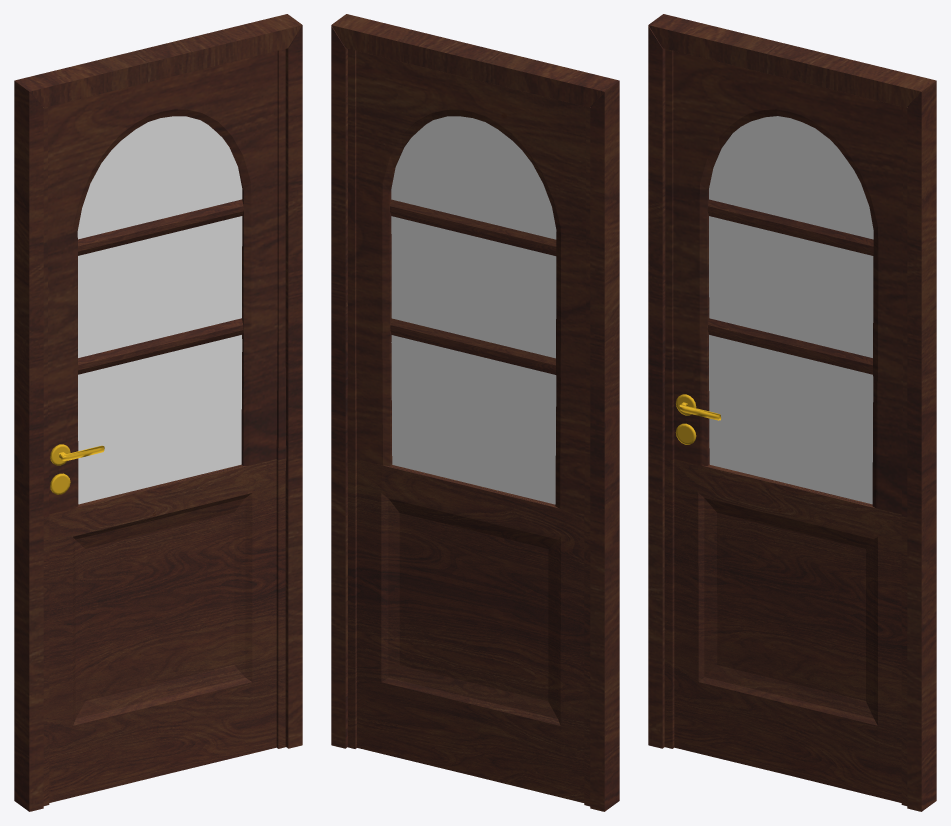
Rendered from PUERTA52_TIME_SQUARE.glb.
The picture shows the model from 3 angles, left to right: view 1: azimuth 30°, elevation 25°; view 2: azimuth 150°, elevation 25°; view 3: azimuth 330°, elevation 25°; orthographic projection.
Parts seen in each view (by area): view 1: Puerta52_TIME SQUARE, CRISTAL_GRANDE, Puerta52_Marco, Puerta52_Cerradura; view 2: Puerta52_TIME SQUARE, CRISTAL_GRANDE, Puerta52_Marco; view 3: Puerta52_TIME SQUARE, CRISTAL_GRANDE, Puerta52_Marco, Puerta52_Cerradura.
Boxes of the visible parts, x1,y1,x2,y2 form: Puerta52_TIME SQUARE: [43, 49, 286, 805]; CRISTAL_GRANDE: [77, 116, 242, 504]; Puerta52_Marco: [14, 14, 302, 811]; Puerta52_Cerradura: [50, 444, 104, 494]; Puerta52_TIME SQUARE: [347, 49, 590, 806]; CRISTAL_GRANDE: [391, 116, 556, 504]; Puerta52_Marco: [331, 14, 619, 811]; Puerta52_TIME SQUARE: [664, 49, 907, 805]; CRISTAL_GRANDE: [709, 116, 873, 504]; Puerta52_Marco: [648, 14, 936, 811]; Puerta52_Cerradura: [675, 394, 721, 444].
Size of the model in its own units: 769 by 1936 by 85.
6 materials, 4 textured.
